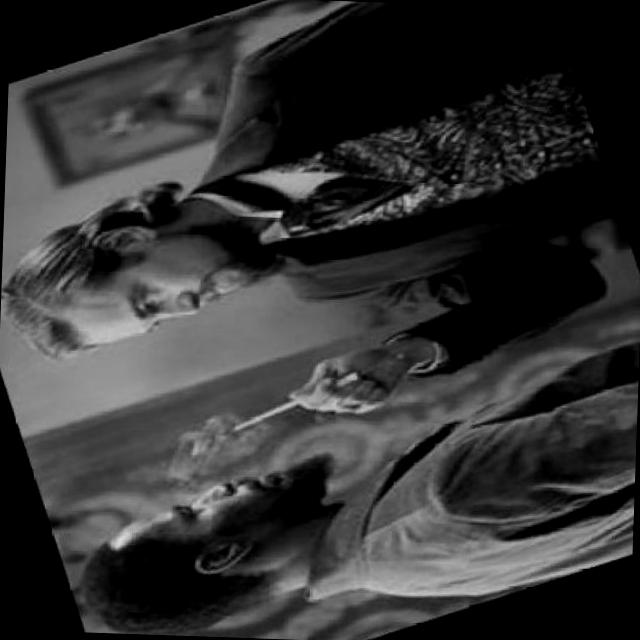cigarette: (354, 344, 420, 384)
